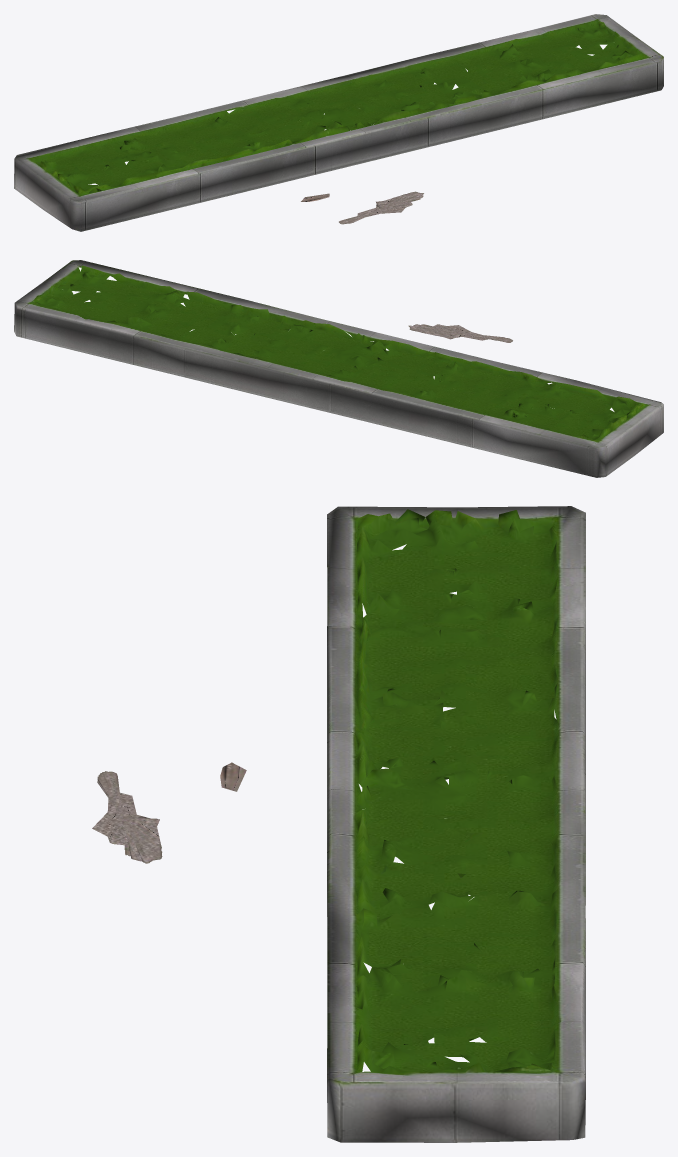
Rendered from kw_planter.glb.
3 views of the same model, one above another, from view 1: azimuth 30°, elevation 25°; view 2: azimuth 150°, elevation 25°; view 3: azimuth 270°, elevation 25° (orthographic). The views are drawn at different scales.
Parts seen in each view (by area): view 1: frame; view 2: frame; view 3: frame.
Boxes of the visible parts, bbox=[...] form: frame: bbox=[14, 14, 663, 231]; frame: bbox=[14, 260, 663, 477]; frame: bbox=[92, 506, 585, 1142].
Bounding box in the file's own units: 10 × 0.5772 × 3.62.
Materials: 1 (1 with a texture image).
